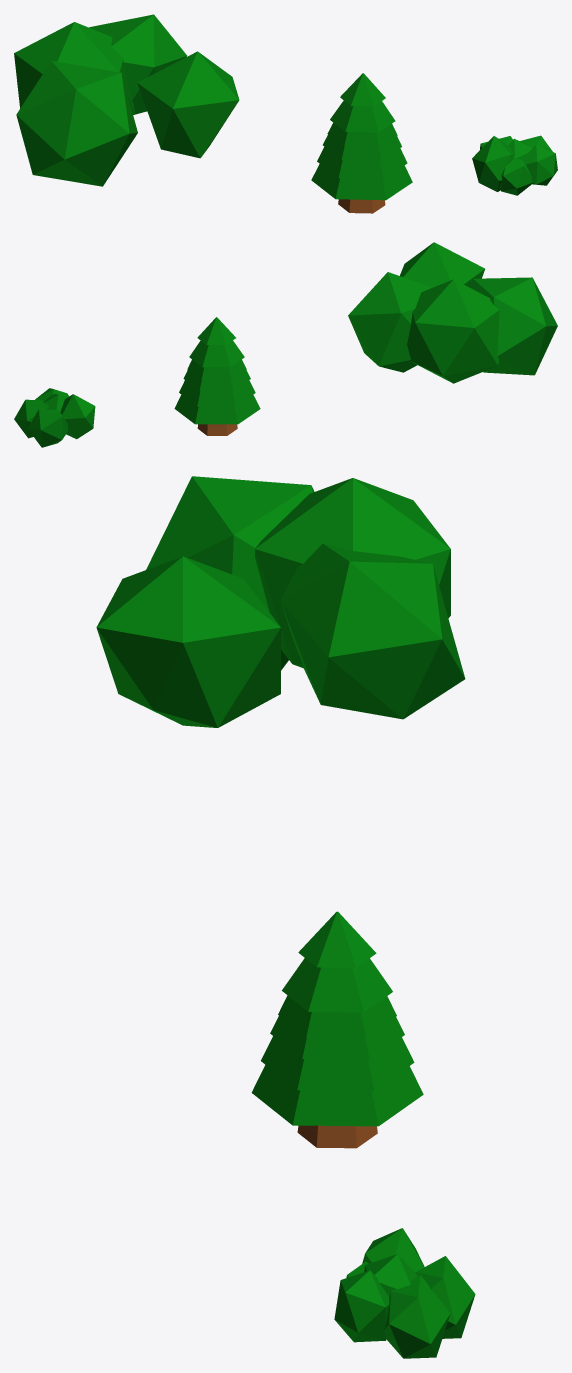
Rendered from Tree.glb.
3 renders of one model, top to bottom at view 1: azimuth 30°, elevation 25°; view 2: azimuth 150°, elevation 25°; view 3: azimuth 270°, elevation 25°, orthographic. The views are drawn at different scales.
Visible parts, largest first — view 1: Tree1 leafes, Tree2, Bush; view 2: Tree1 leafes, Tree2, Bush; view 3: Tree1 leafes, Tree2, Bush.
Boxes of the visible parts, x1,y1,x2,y2 form: Tree1 leafes: (14,14,239,186); Tree2: (311,73,412,213); Bush: (472,135,557,195); Tree1 leafes: (348,242,557,383); Tree2: (174,317,260,435); Bush: (14,388,95,447); Tree1 leafes: (96,476,465,727); Tree2: (251,911,423,1148); Bush: (334,1228,475,1358).
Bounding box in the file's own units: 28.22 × 13.32 × 9.43.
